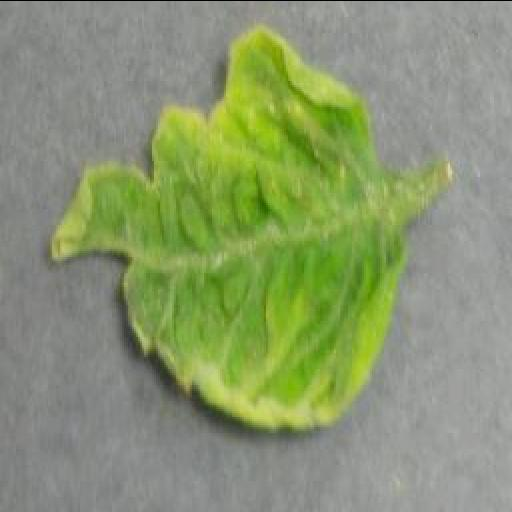disease_tomato: (46, 26, 408, 434)
